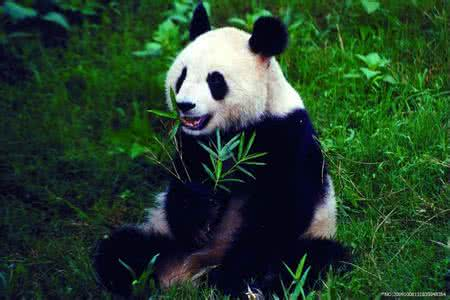panda: (89, 2, 344, 300)
